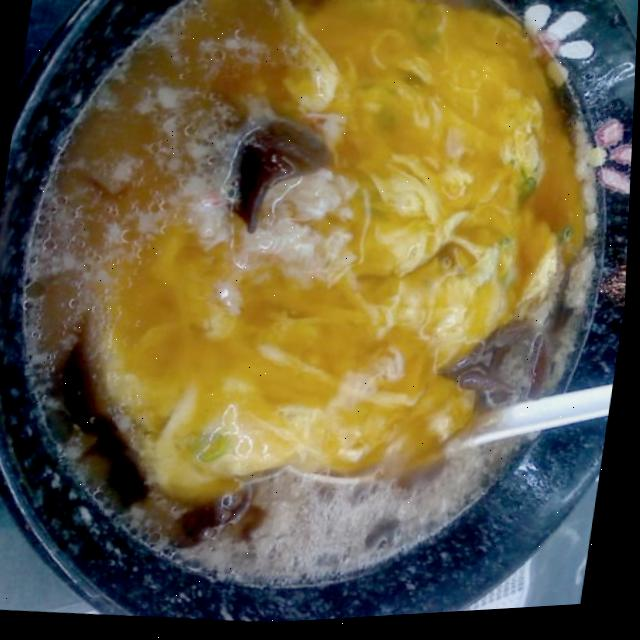面条主食: (0, 0, 640, 623)
